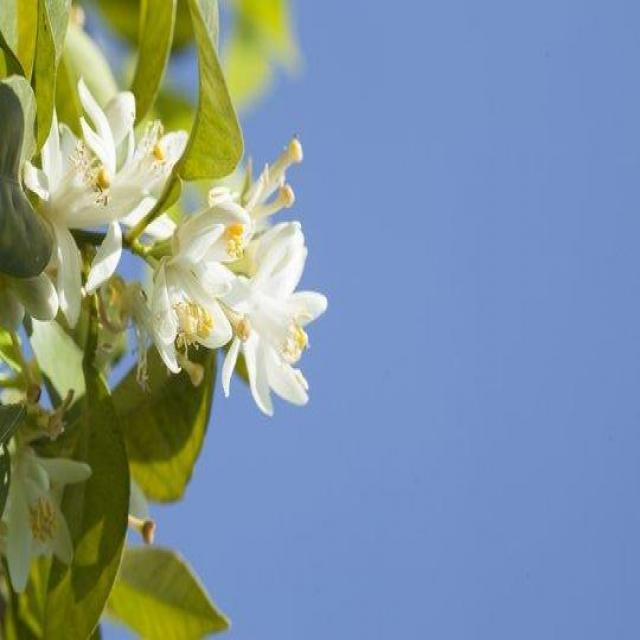Bunga: (78, 78, 174, 245), (28, 114, 112, 296), (146, 210, 240, 372), (252, 236, 330, 422), (7, 448, 91, 590), (242, 135, 304, 235), (211, 192, 251, 249)
